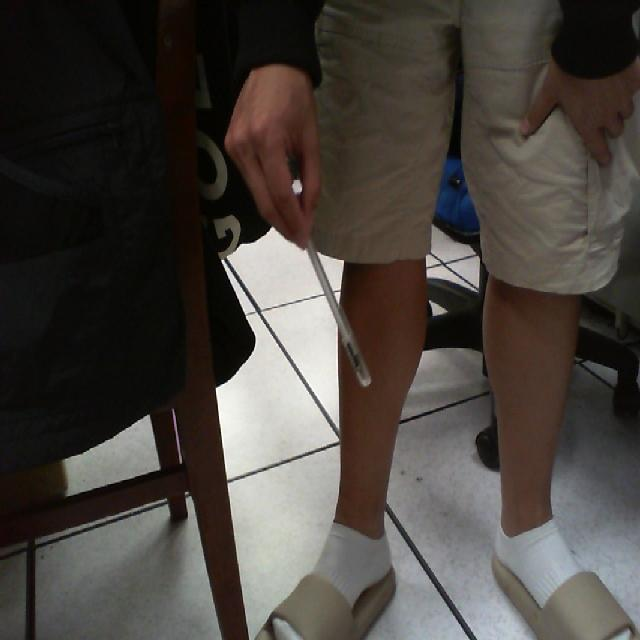Pen: (282, 180, 380, 431)
